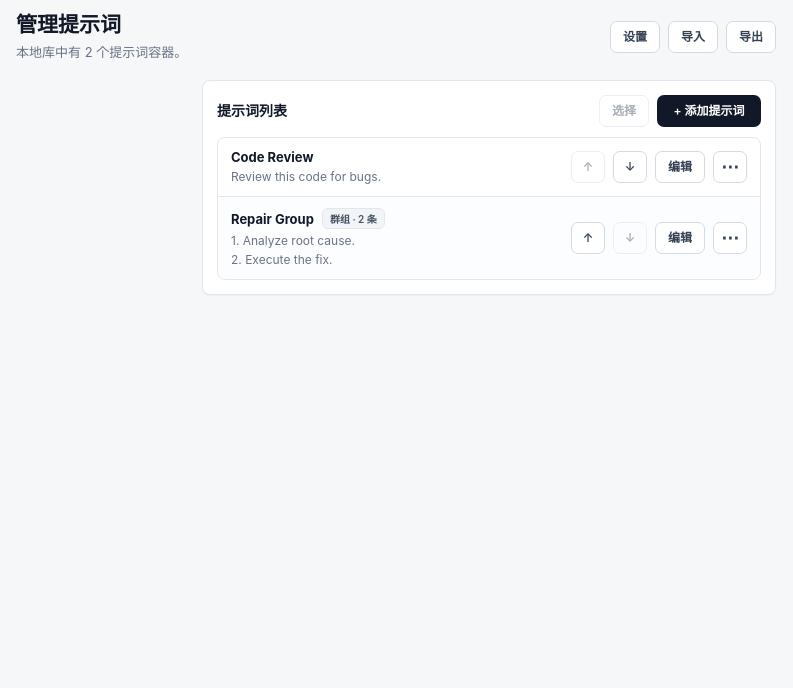
it: prompt manager › shows success feedback after creating a group
The width and height of the screenshot is (793, 688).
Click the button "+ 添加提示词" at (709, 111), box [657,95,761,127]
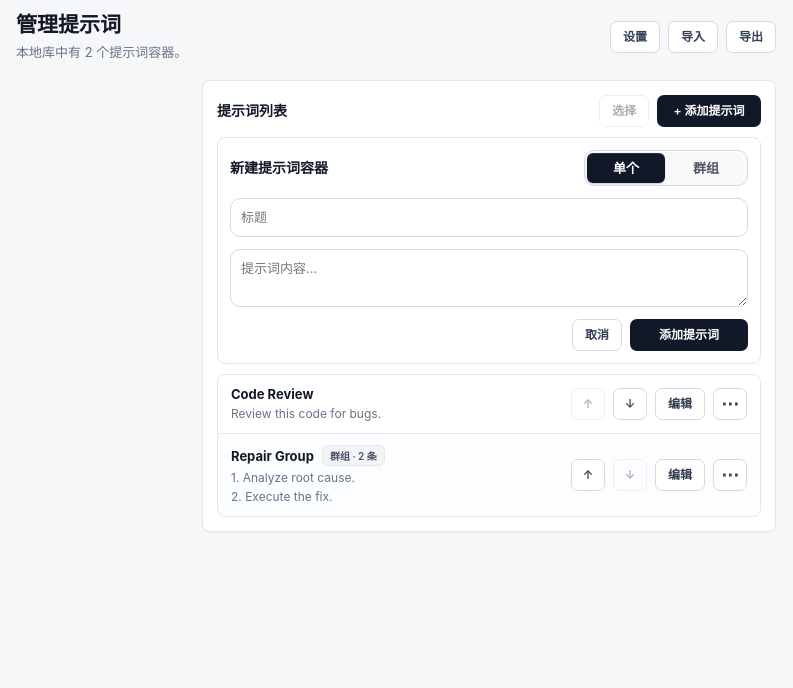
Click the button "群组" at (706, 168), box [667,153,745,183]
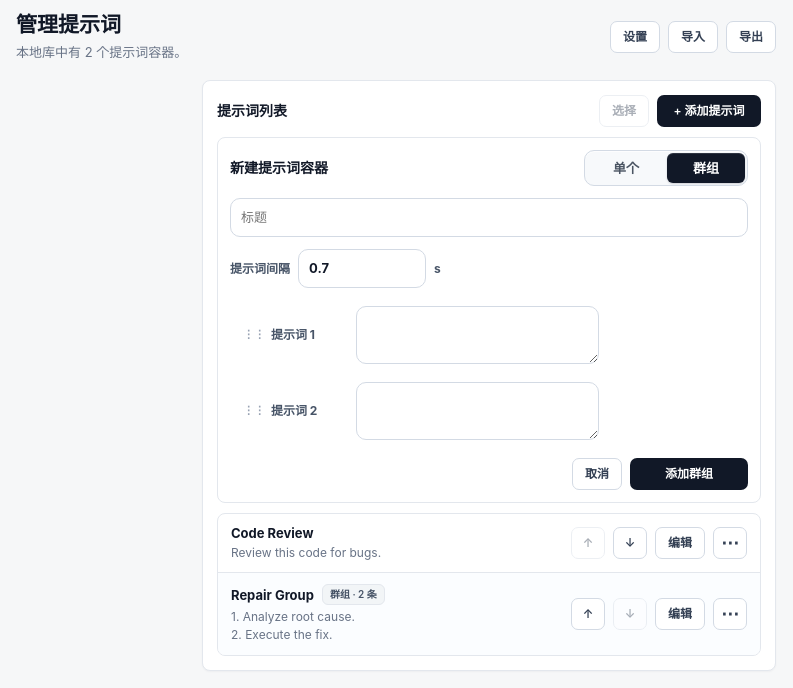
Type "群组提示词" into the field with placeholder "标题" at (489, 217), box [230,198,748,237]
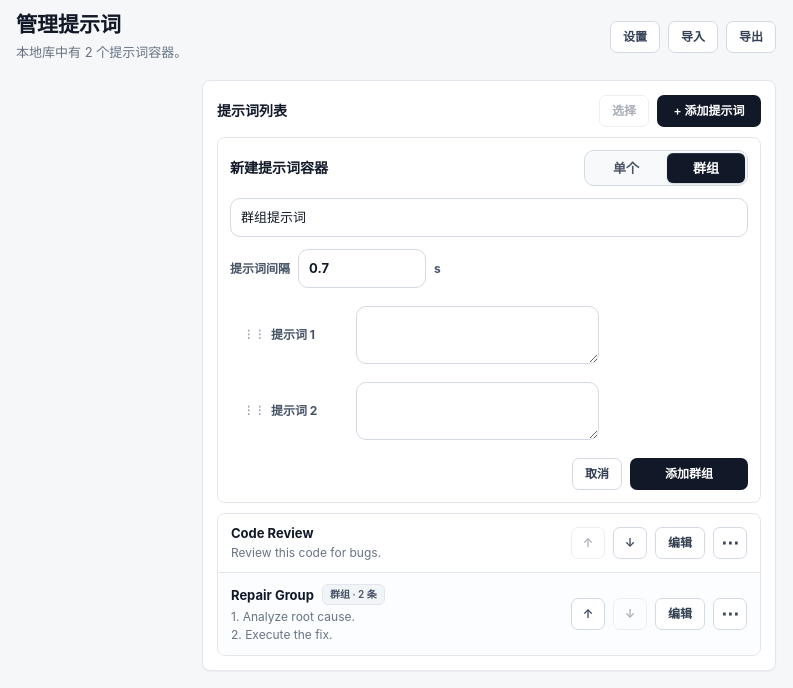
Type "第一条" into the text box named "提示词 1 内容" at (478, 335), box [356,306,599,364]
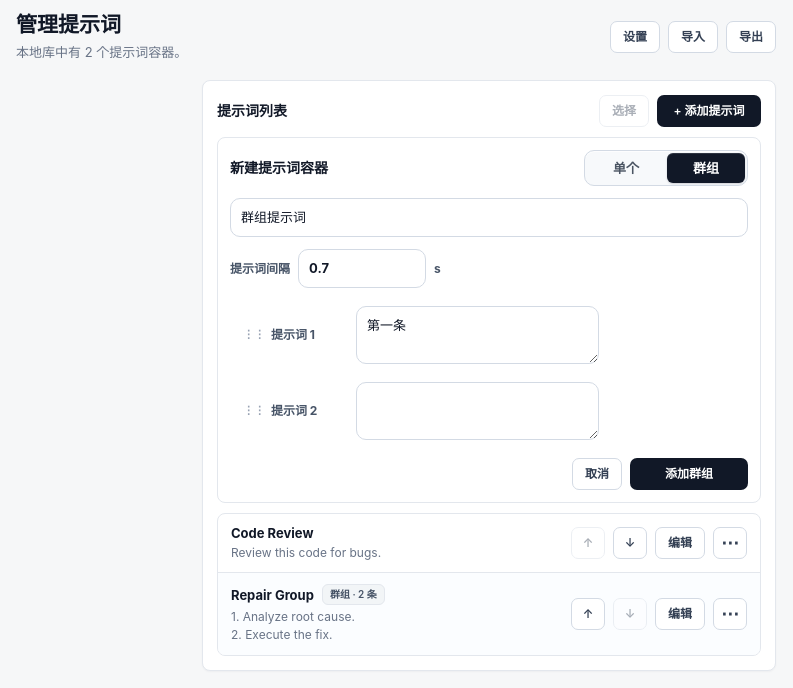
Click the button "添加群组" at (689, 474), box [630,458,748,490]
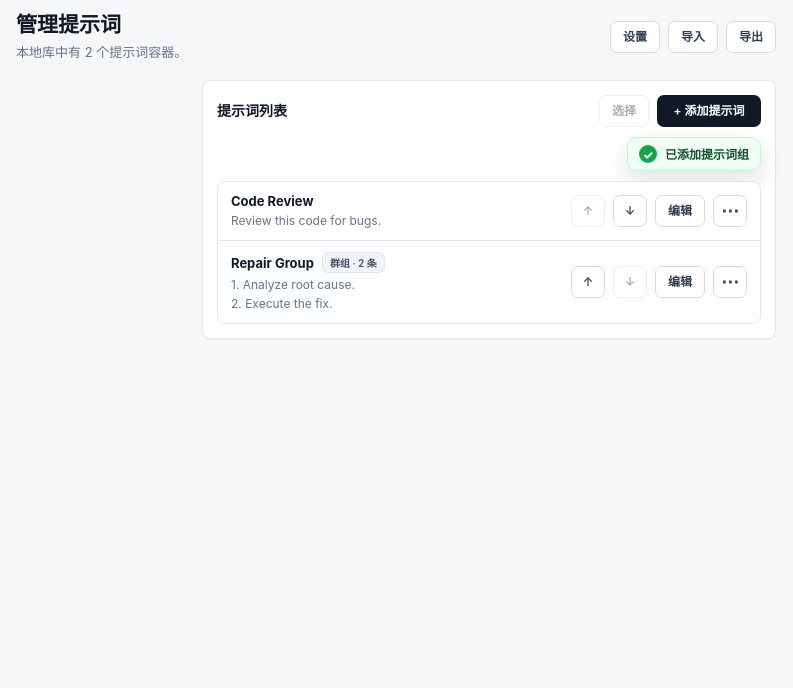
Check: the text "已添加提示词组" is shown, box [665,146,749,162]
